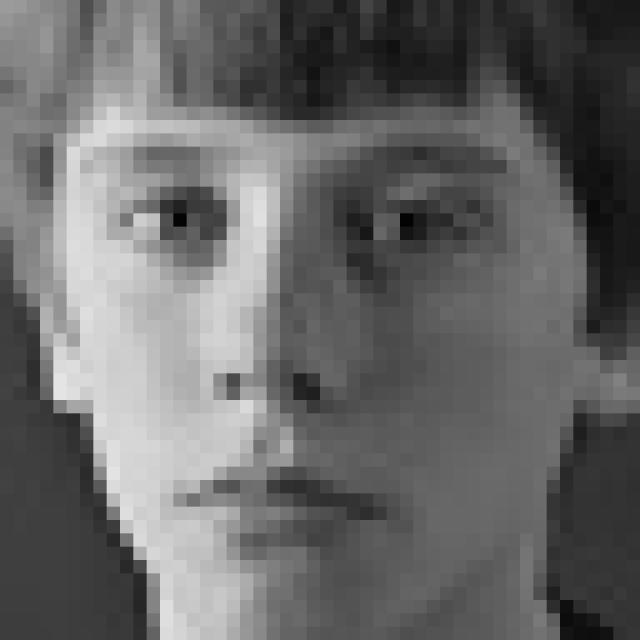neutral: (60, 134, 522, 552)
